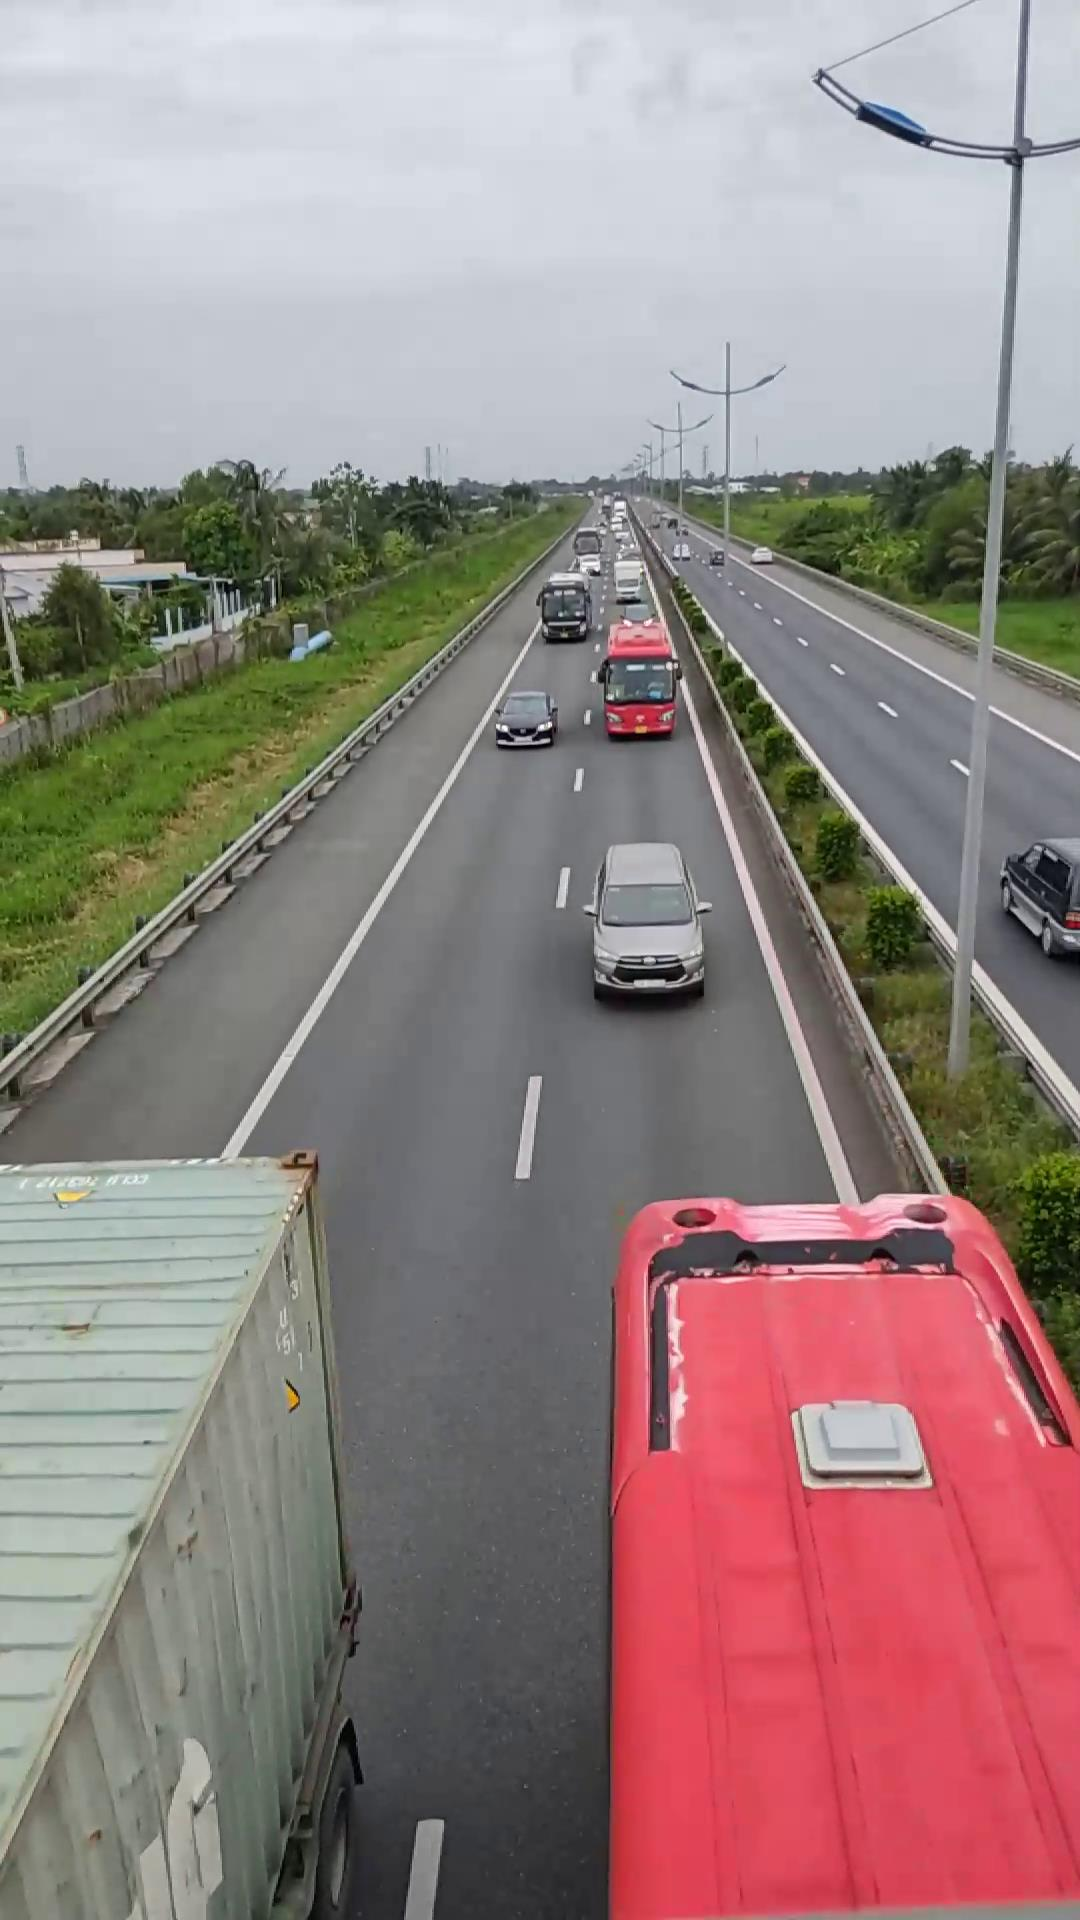bus: (613, 1193, 1077, 1912)
car: (585, 840, 709, 1000)
container: (0, 1153, 371, 1919)
